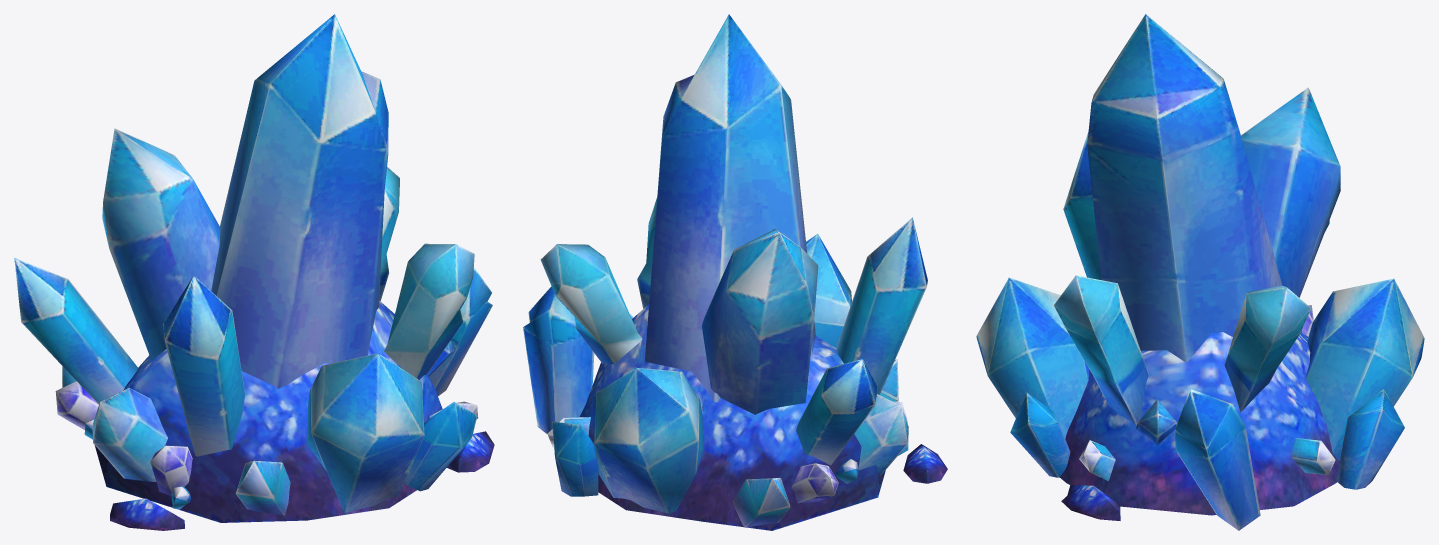
File: lowpoly_textured_ice_crystals.fbx
3 views of the same model, side by side, from view 1: azimuth 30°, elevation 25°; view 2: azimuth 150°, elevation 25°; view 3: azimuth 270°, elevation 25° (orthographic). The views are drawn at different scales.
Visible parts, largest first — view 1: MC_10009; view 2: MC_10009; view 3: MC_10009.
Part boxes in pixels (<box>): MC_10009: <box>14,14,494,530</box>; MC_10009: <box>523,14,947,530</box>; MC_10009: <box>976,14,1424,530</box>.
Bounding box in the file's own units: 0.00526 × 0.00531 × 0.0049.
Materials: 1 (1 with a texture image).
